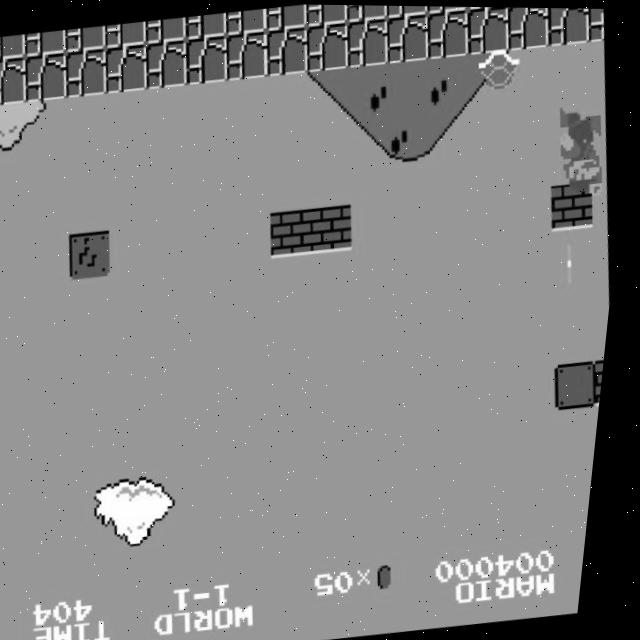0- big_mario: (554, 101, 616, 200)
1- brick_block: (270, 206, 320, 258), (310, 202, 360, 253), (599, 356, 612, 402)
13- mystery_block: (70, 229, 120, 280), (0, 424, 7, 473)
16- shell: (475, 44, 527, 96)
17- undestructible_block: (302, 20, 353, 72), (142, 38, 193, 89), (423, 7, 473, 59), (223, 29, 273, 81), (182, 33, 232, 85), (102, 42, 152, 94), (383, 12, 433, 63), (343, 16, 393, 67), (263, 25, 313, 76), (62, 47, 112, 98), (22, 51, 72, 102), (463, 5, 513, 54), (502, 6, 552, 49), (543, 6, 592, 45), (0, 55, 32, 106), (183, 11, 229, 40), (63, 24, 109, 53), (223, 7, 269, 35), (264, 3, 309, 31), (144, 16, 189, 44), (103, 20, 148, 48), (23, 29, 68, 57), (303, 4, 348, 26), (344, 4, 388, 22), (0, 33, 28, 61), (583, 7, 606, 40), (384, 4, 428, 17), (423, 5, 467, 12)
3- empty_block: (558, 358, 608, 408)
